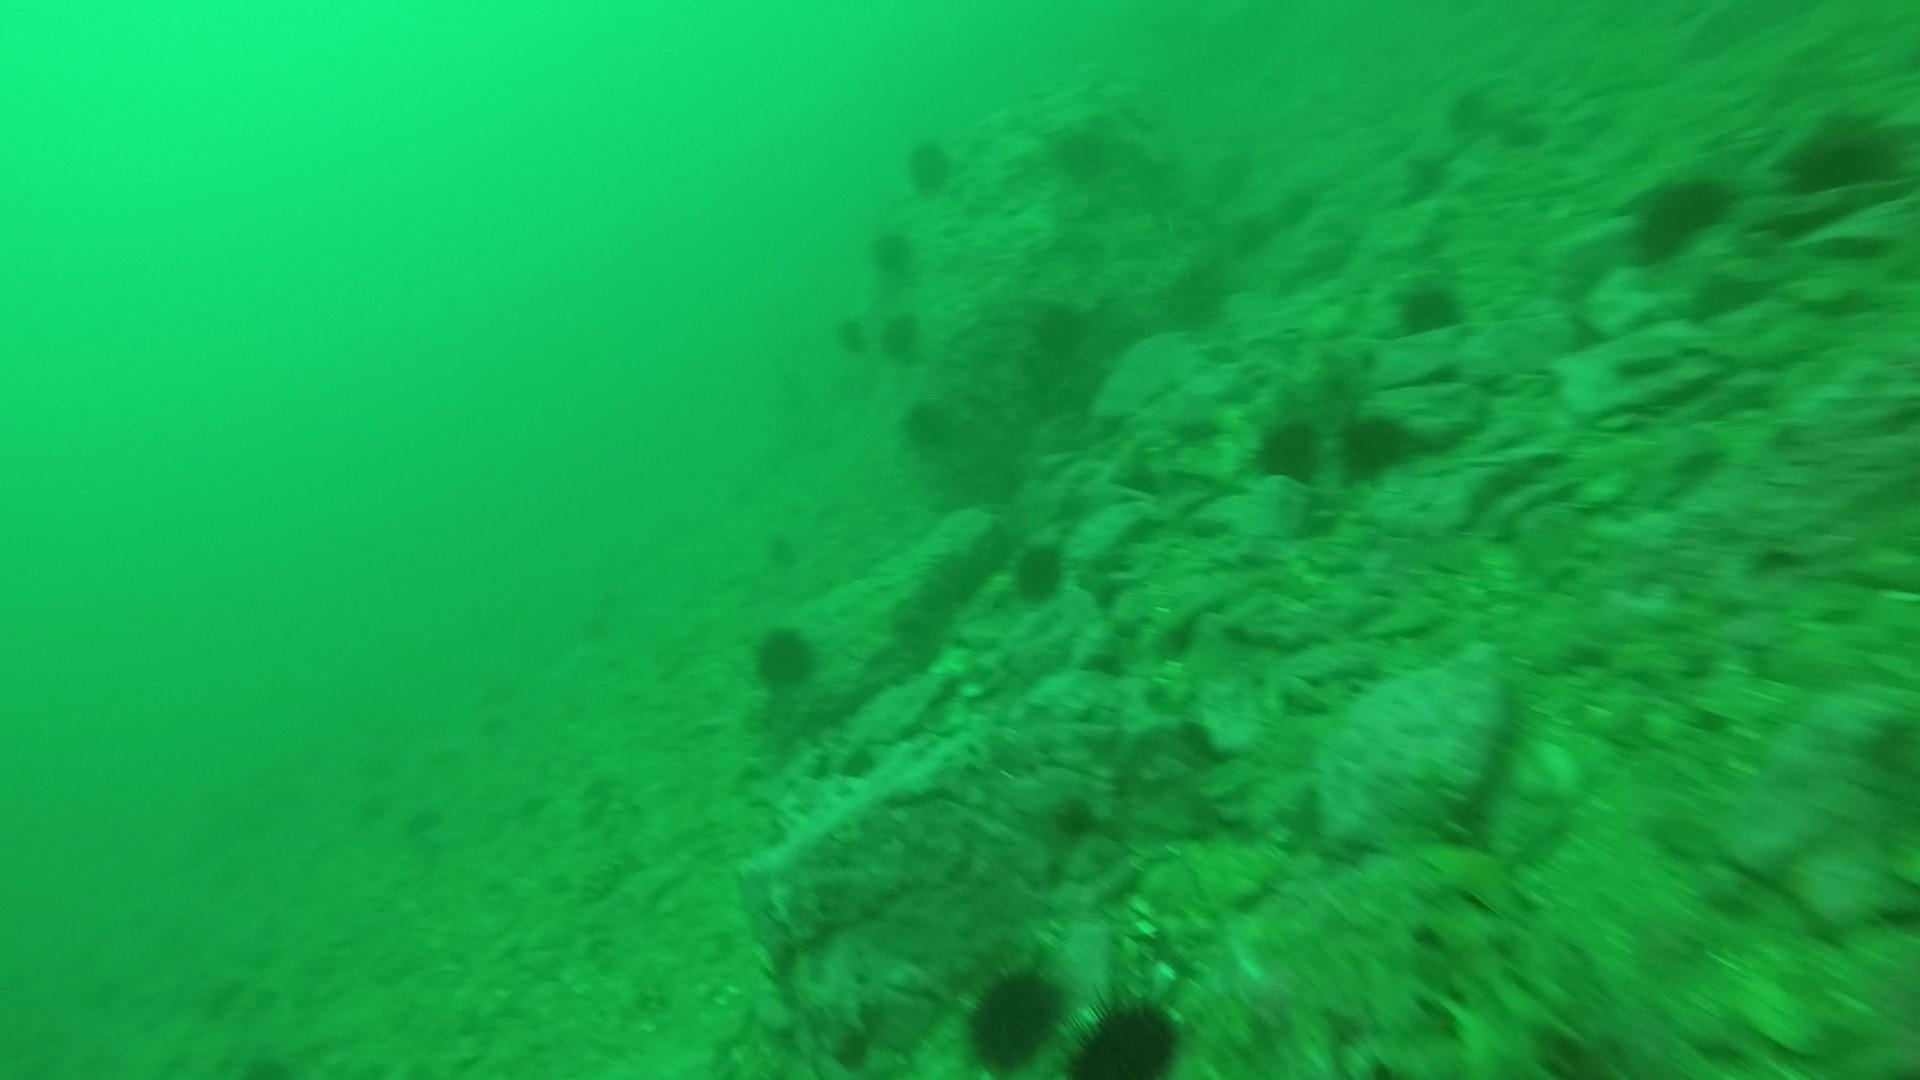echinus: (956, 959, 1073, 1072), (1776, 104, 1905, 200), (1619, 166, 1738, 266), (1062, 989, 1189, 1076), (1331, 406, 1418, 487), (1247, 410, 1331, 491), (745, 618, 825, 696), (1387, 273, 1472, 343), (1043, 113, 1120, 187), (1004, 535, 1073, 611), (895, 392, 964, 458), (899, 131, 961, 199), (864, 222, 924, 285), (1393, 146, 1455, 204), (876, 307, 926, 365), (1502, 109, 1551, 160), (1441, 87, 1490, 137), (1224, 204, 1273, 255), (1276, 181, 1327, 229), (1044, 297, 1095, 345), (831, 309, 877, 361), (756, 531, 802, 584), (1199, 144, 1247, 193), (477, 670, 520, 705), (473, 712, 516, 746), (425, 738, 467, 773), (347, 793, 389, 827), (357, 737, 400, 771), (400, 804, 440, 839)
starfish: (1414, 835, 1536, 923)
